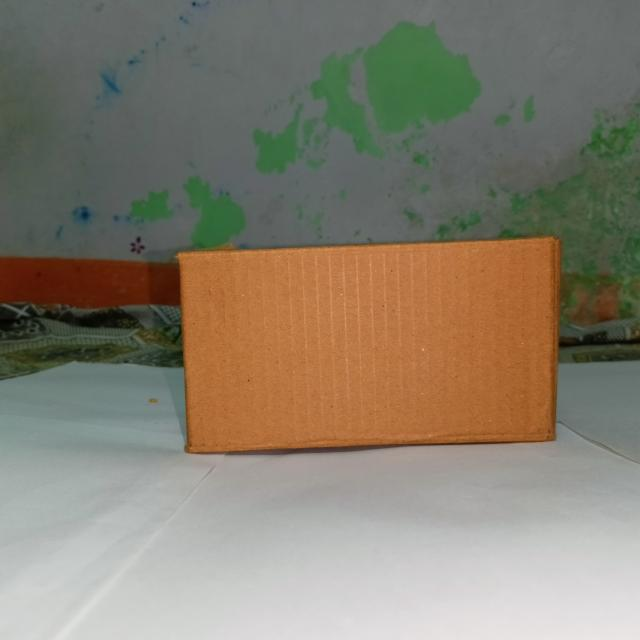box: (179, 241, 556, 452)
